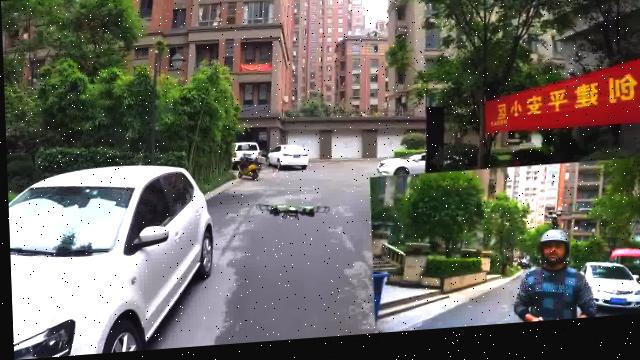drone: (251, 192, 335, 231)
